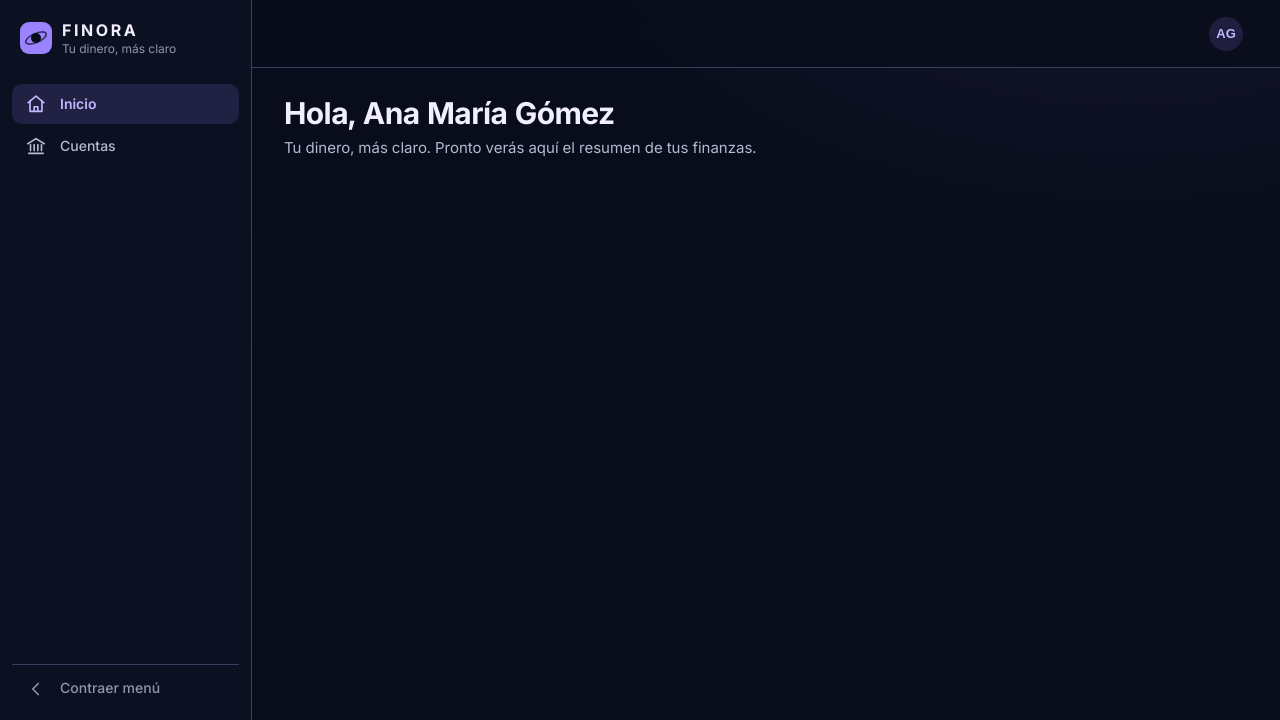
Test: menú de perfil › Esc lo cierra y devuelve el foco al botón
Expected: the navigation bar named "Navegación principal" is shown, [0,0,252,719]
Click the button with aria-label "Menú de perfil": (1226, 34) [1204,12,1248,56]
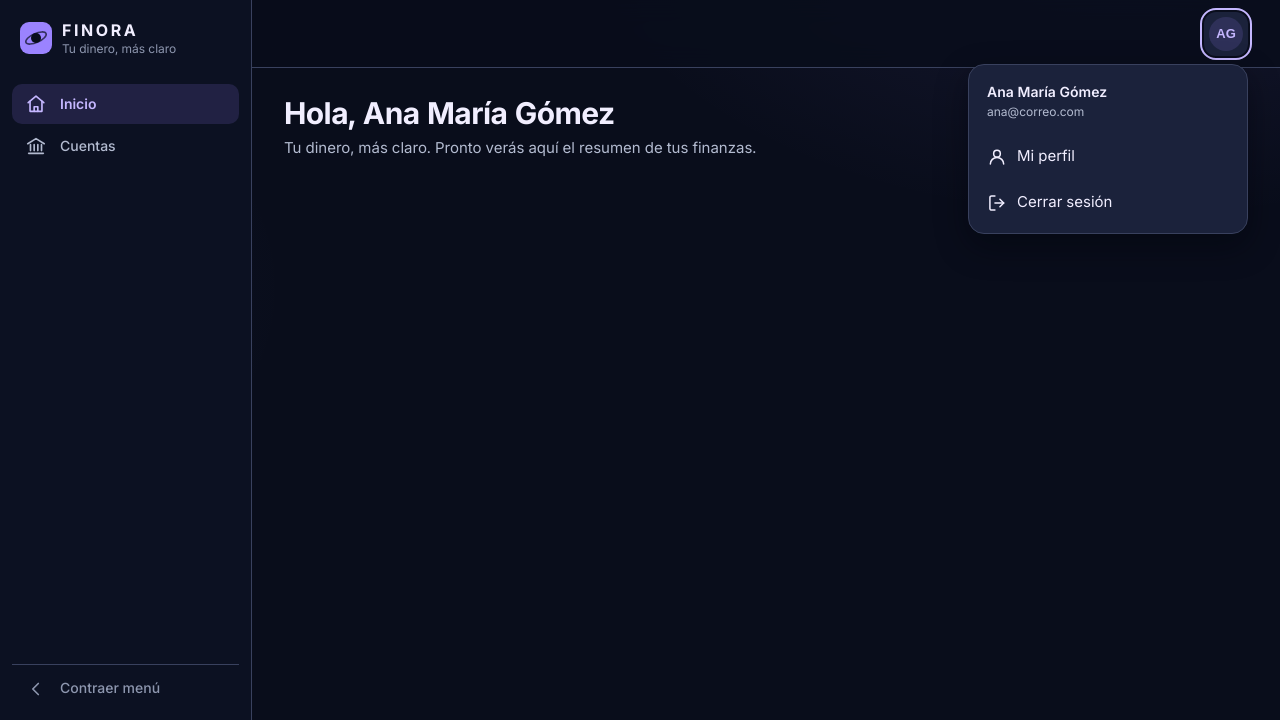
Press Tab
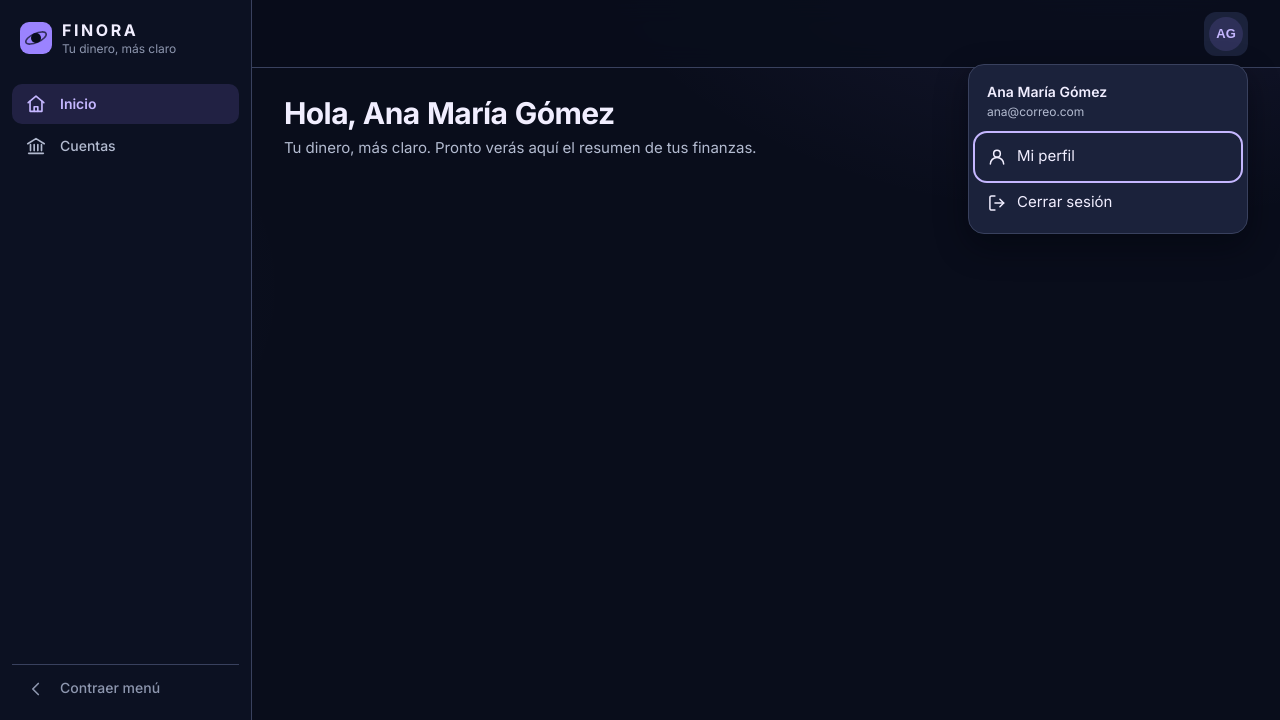
Press Escape
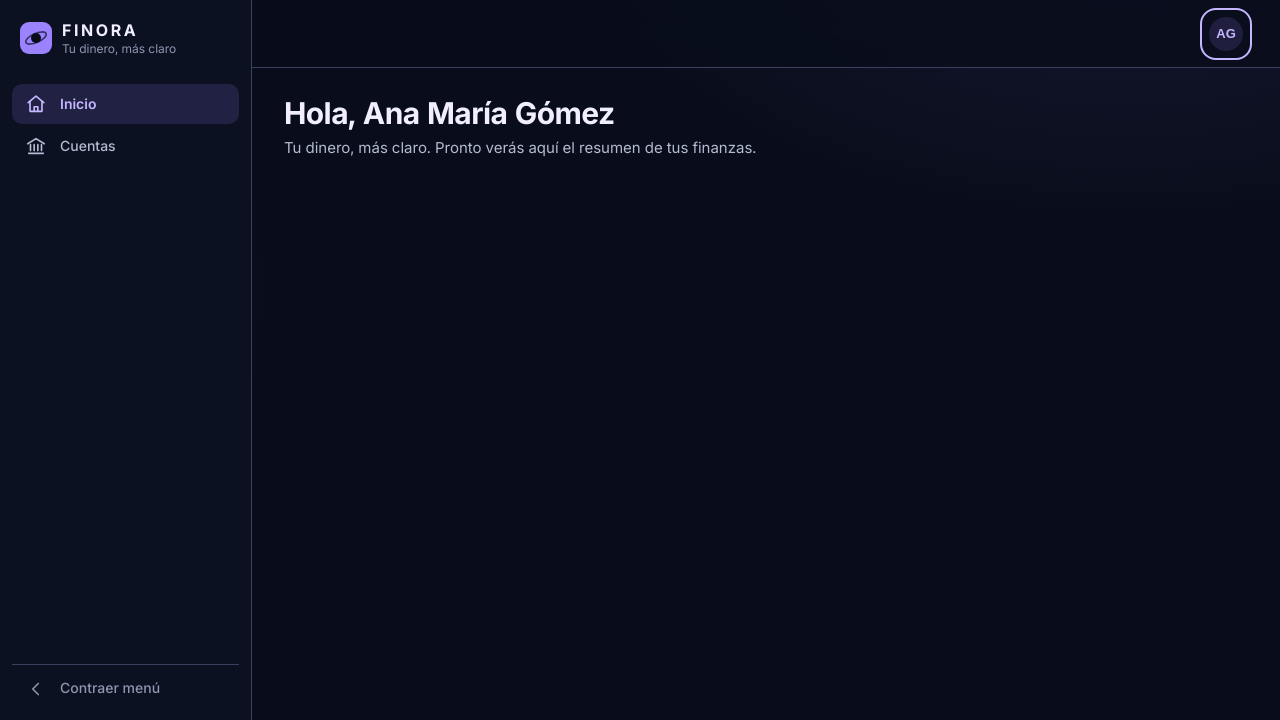
Now the link "Mi perfil" is gone
